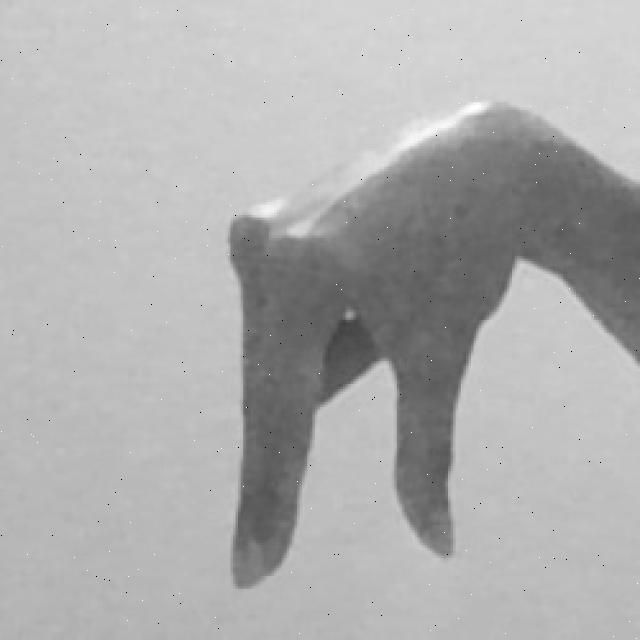Q: (219, 89, 640, 597)
